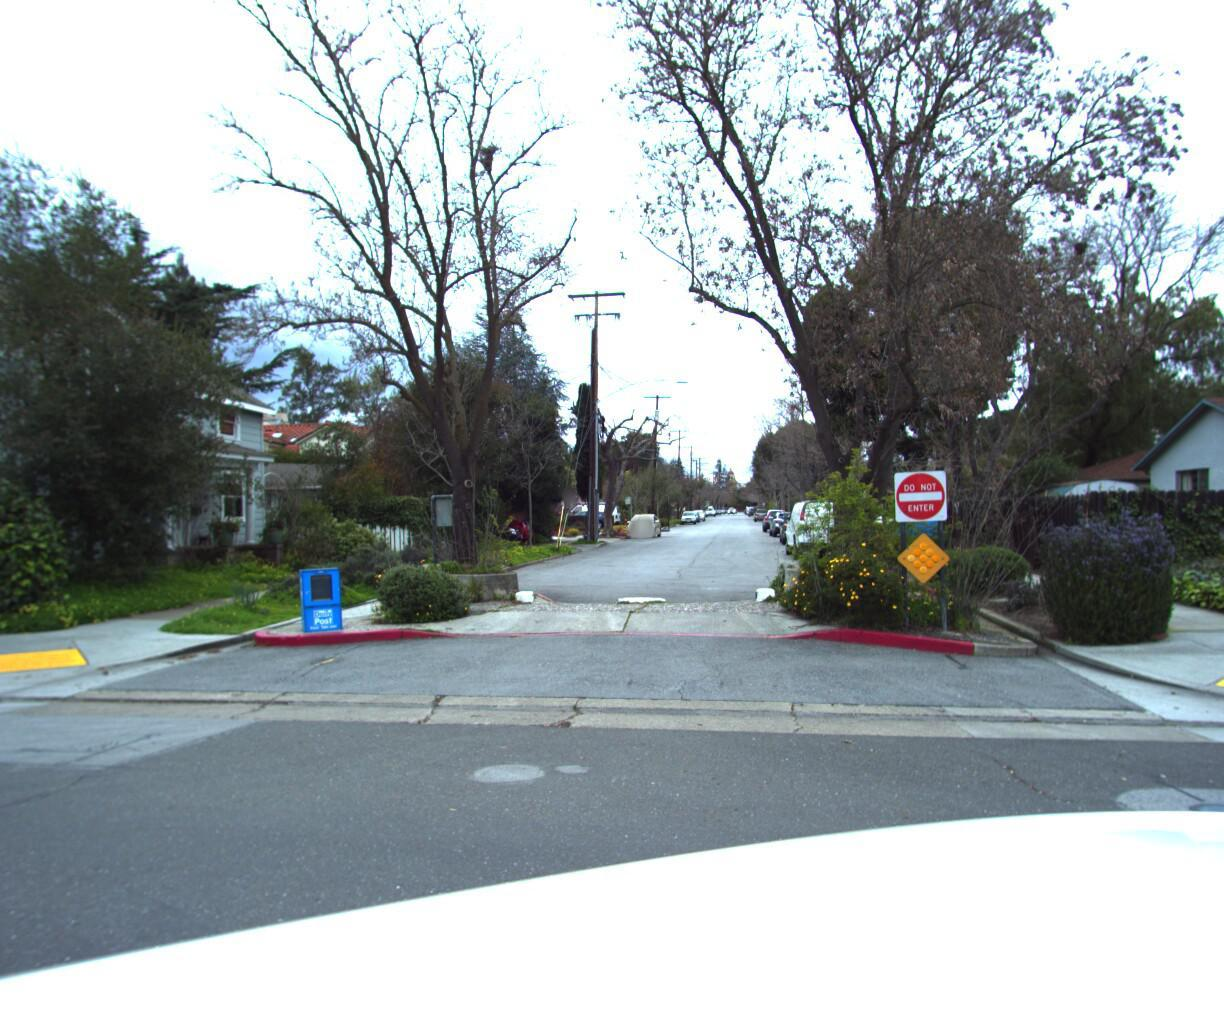car: (788, 498, 858, 560), (493, 501, 588, 539), (441, 514, 539, 549), (560, 503, 629, 533), (766, 513, 805, 541), (623, 515, 662, 543), (759, 511, 790, 536)
